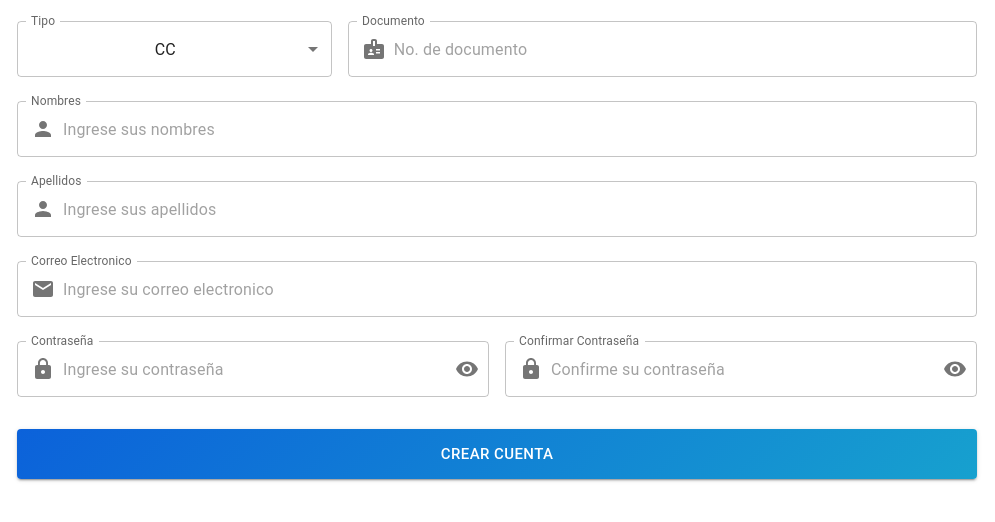
Test case: RegisterForm › Validation › shows error when passwords do not match
In the field labelled "Documento": x=685, y=49 [394,21,977,77], type "12345678"
In the field labelled "Nombres": x=520, y=129 [63,101,977,157], type "Juan"
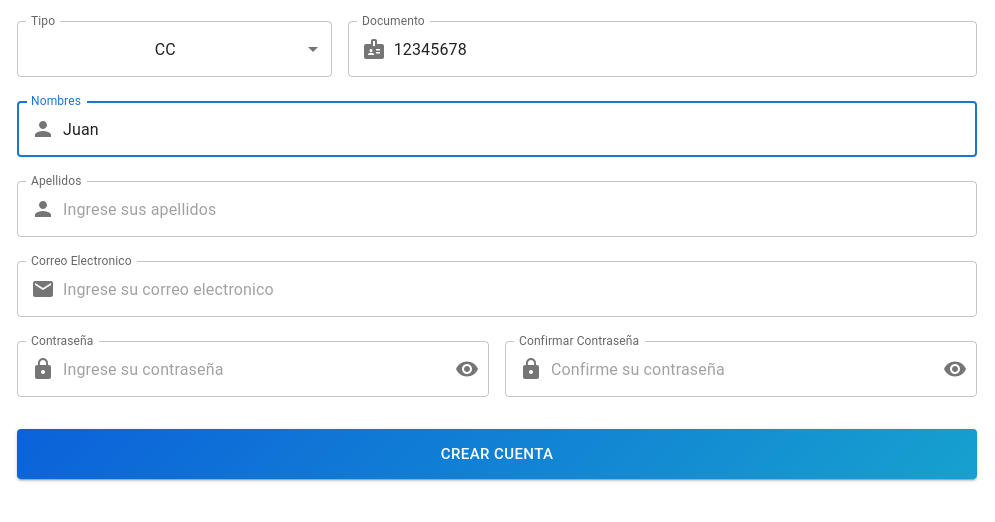
In the field labelled "Apellidos": x=520, y=209 [63,181,977,237], type "Perez"
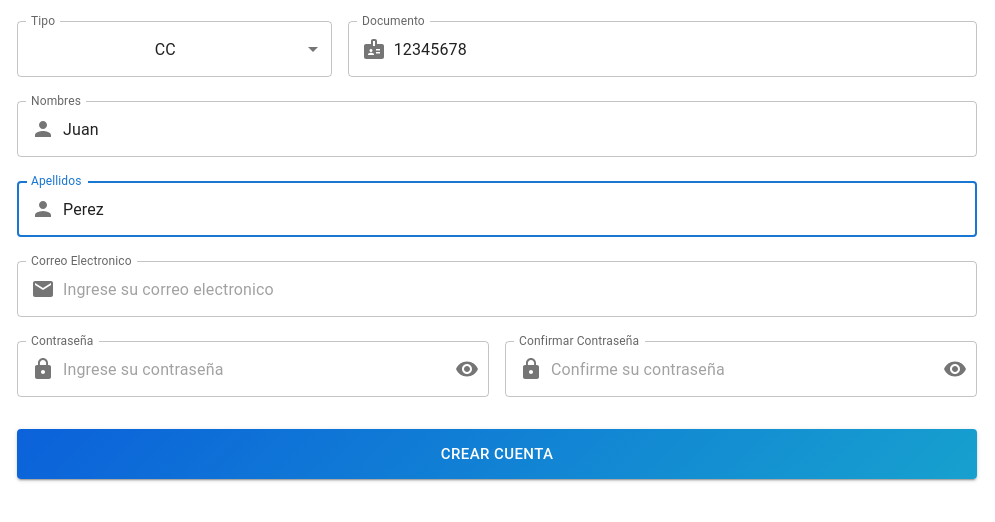
In the field labelled "Correo Electronico": x=520, y=289 [63,261,977,317], type "juan@test.com"
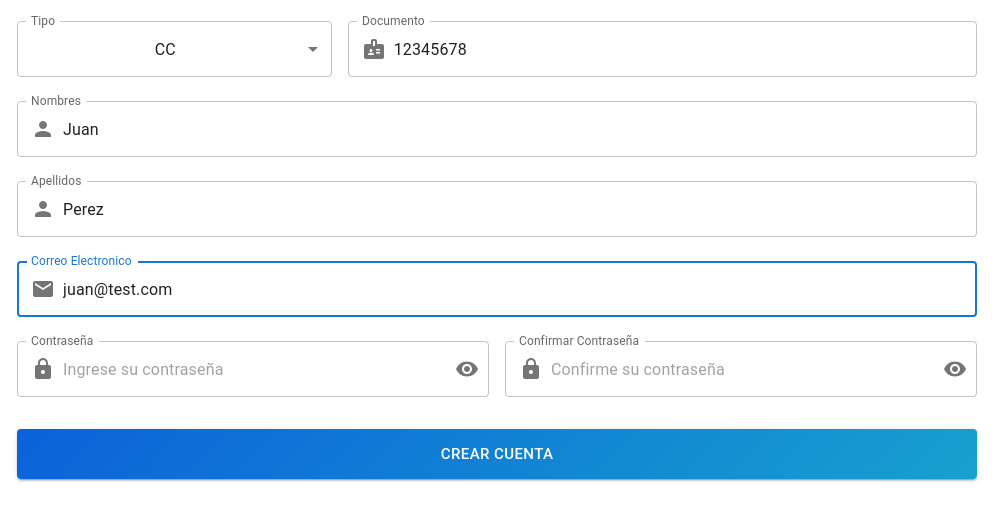
Get password fields by placeholder
In the password field with placeholder "Ingrese su contraseña": x=251, y=369 [63,341,439,397], type "Password1"
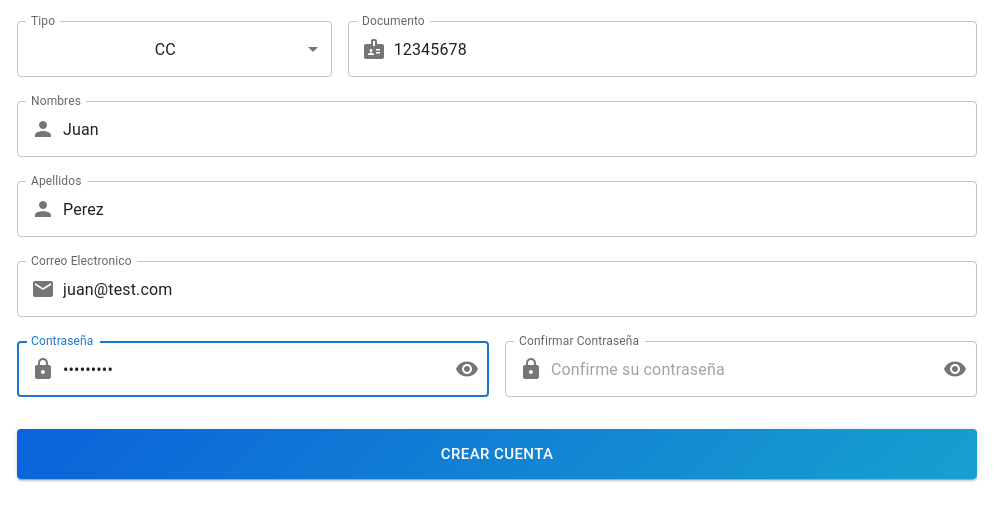
In the password field with placeholder "Confirme su contraseña": x=739, y=369 [551,341,927,397], type "DifferentPass1"
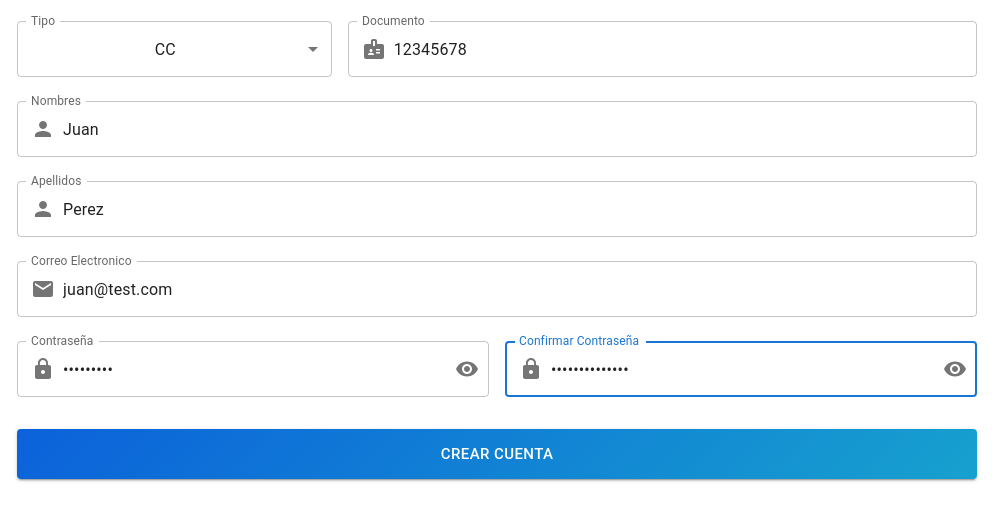
Click the button "Crear Cuenta": x=497, y=454 [17,429,977,479]
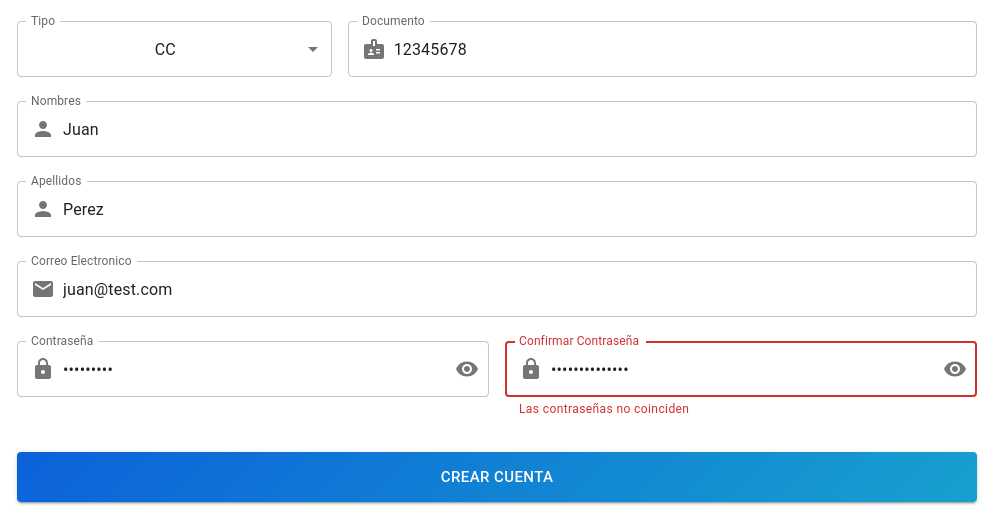
Expected: the text "Las contraseñas no coinciden" is shown, [519,402,689,416]
